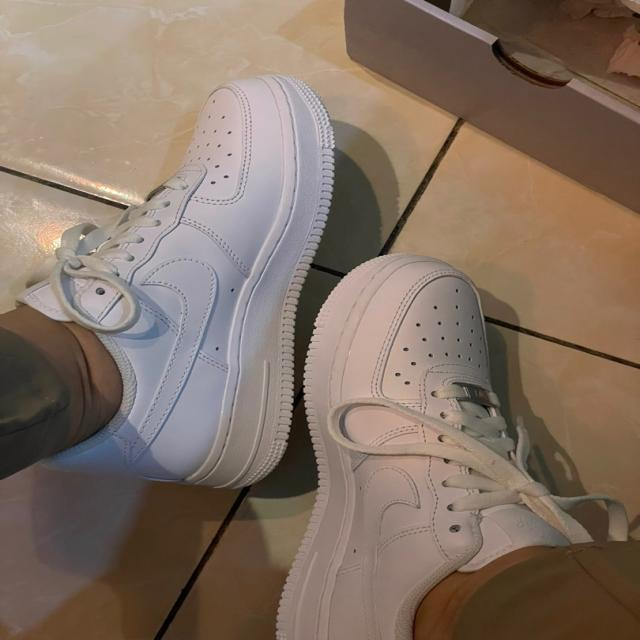nike original air force: (16, 73, 342, 491), (274, 252, 596, 640)
